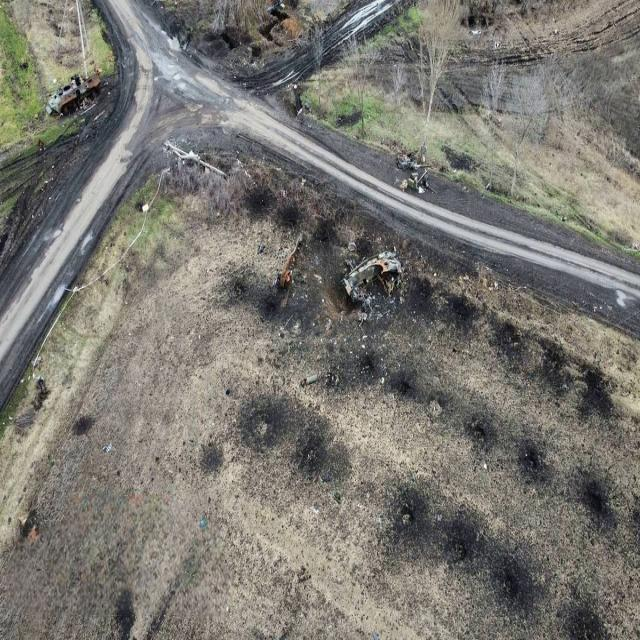Destroyed: (340, 251, 402, 311), (52, 70, 102, 116)
